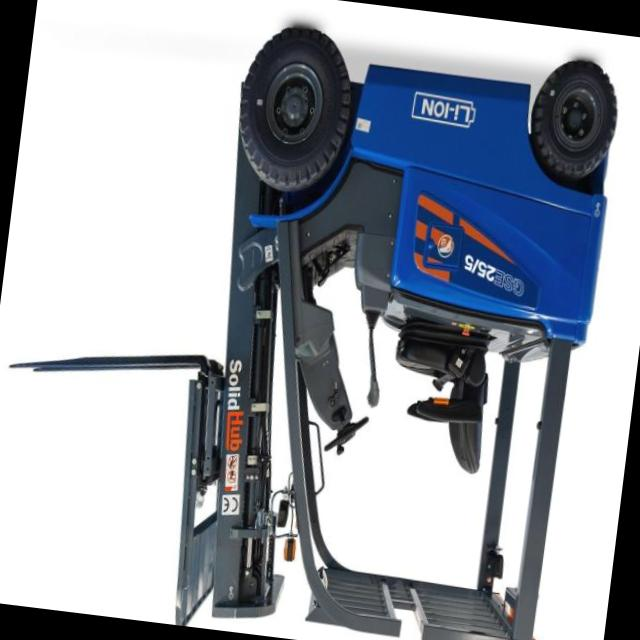forklift: (148, 9, 639, 640)
